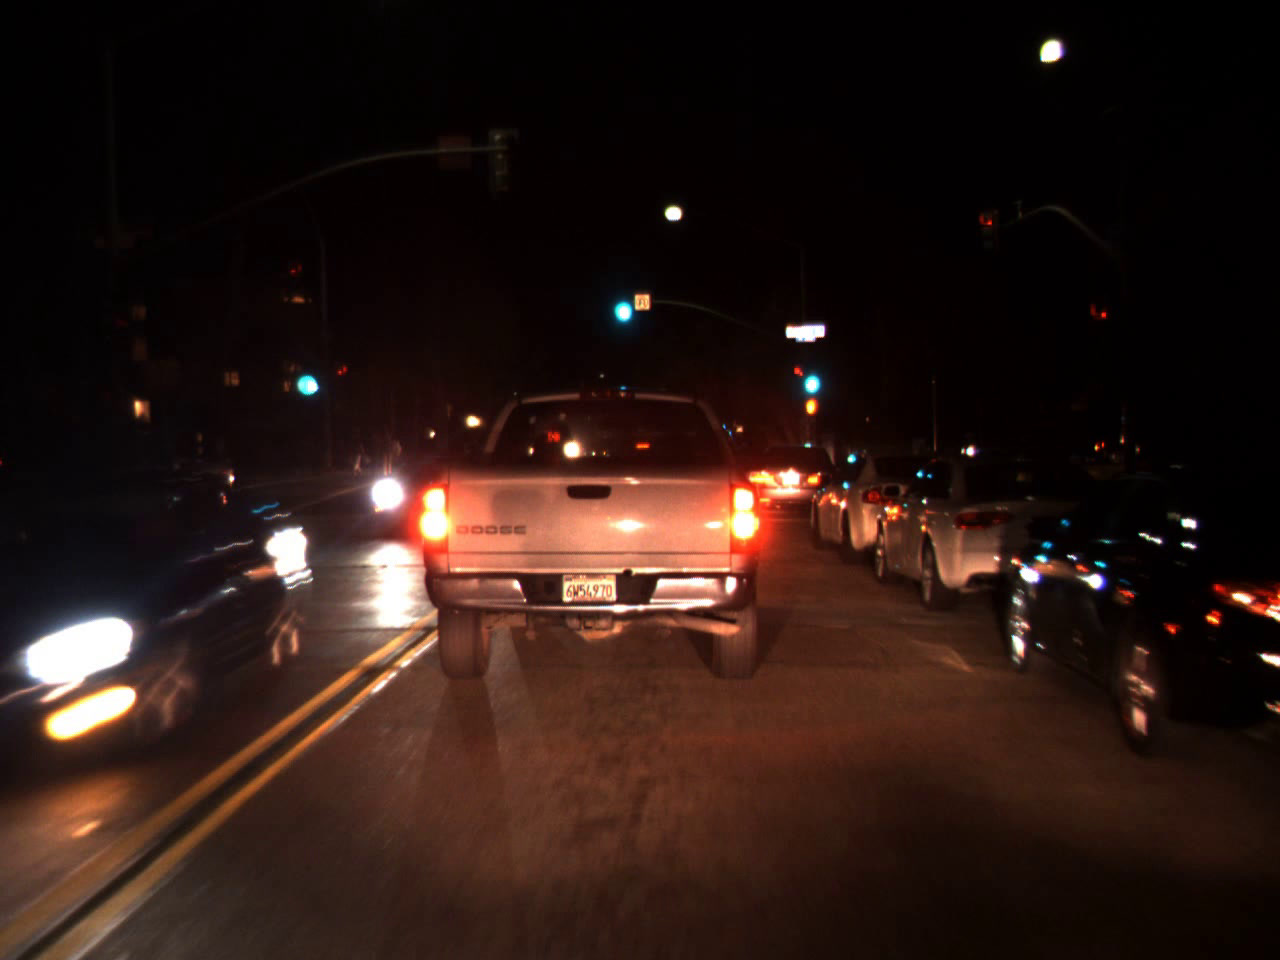go: (290, 350, 321, 401), (608, 276, 635, 330), (798, 350, 823, 401)
